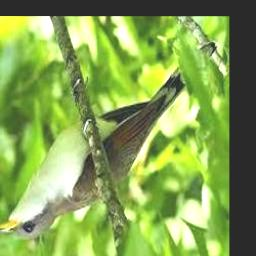Cuckoo: (0, 43, 217, 239)
